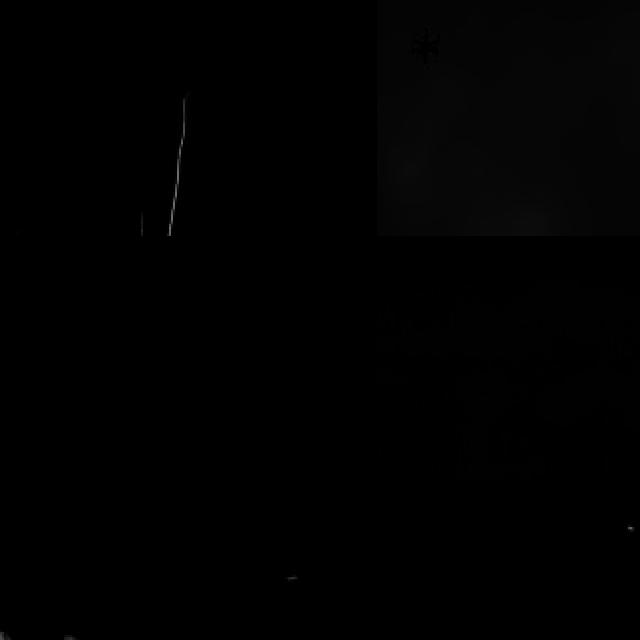1: (274, 564, 314, 600), (621, 515, 640, 540)
drone: (404, 23, 444, 69)
